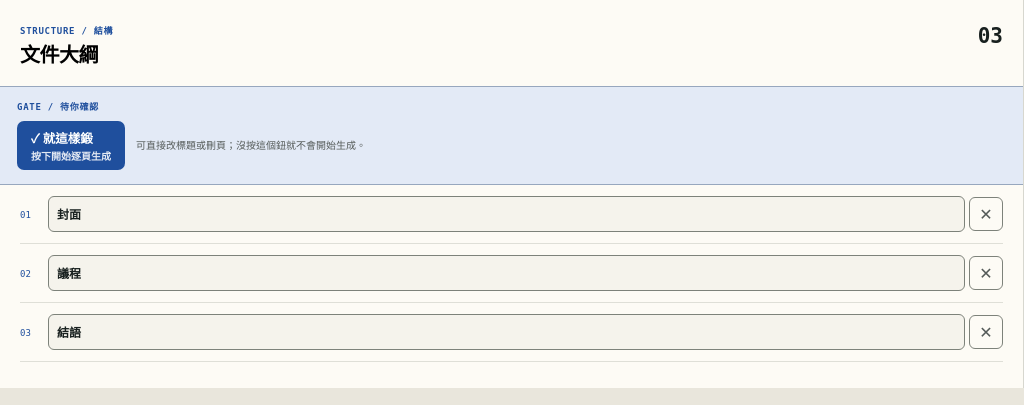
Test case: 成功送出後(仍在 await)rail 顯示送出的 draft 而非舊標題
Replace the text in the field named "第 1 頁標題" with "新封面" at (506, 214), box [48,196,965,232]
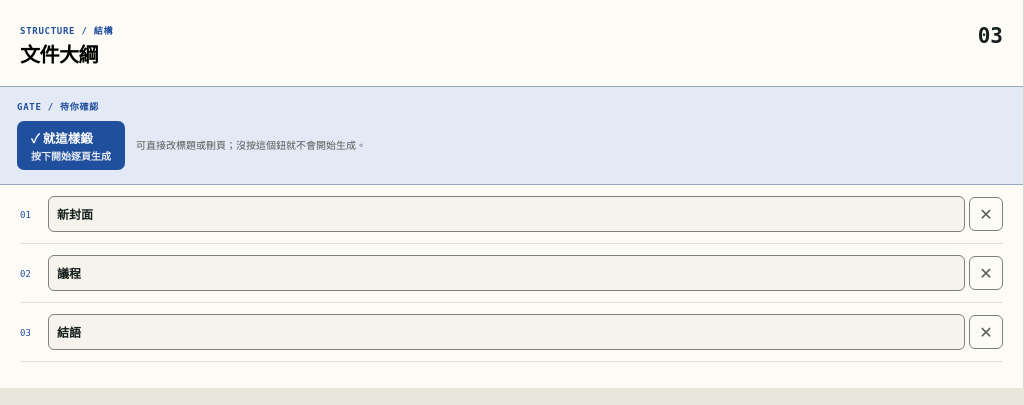
Click the button "✓ 就這樣鍛 按下開始逐頁生成" at (71, 146), box [17,121,125,170]
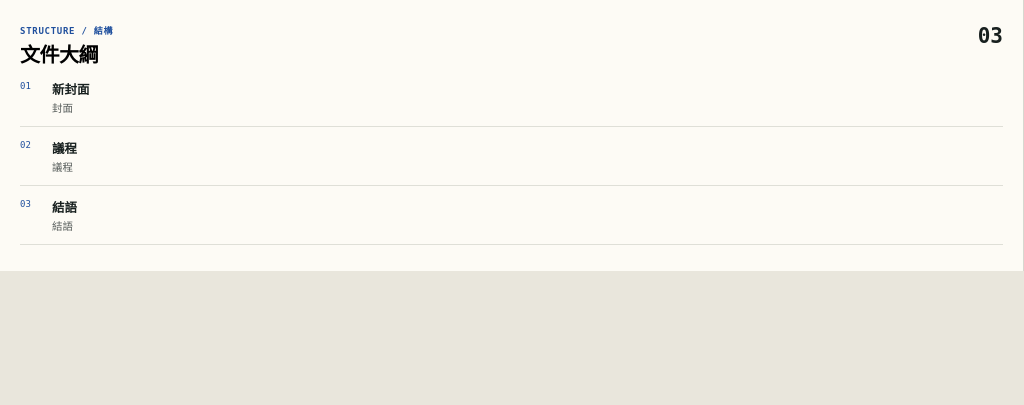
Expected: the button "就這樣鍛" is gone
Expected: the text "新封面" is shown, [52,83,90,97]
